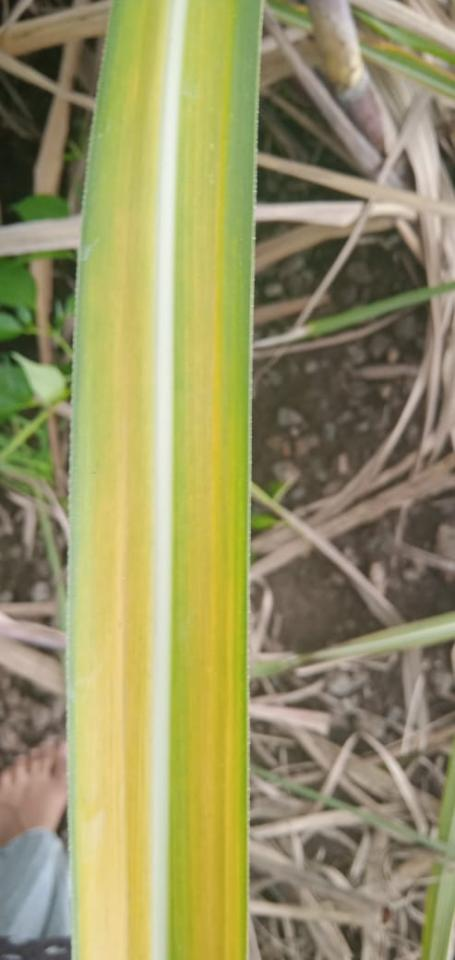Yellow: (74, 209, 155, 959), (186, 262, 238, 960)
